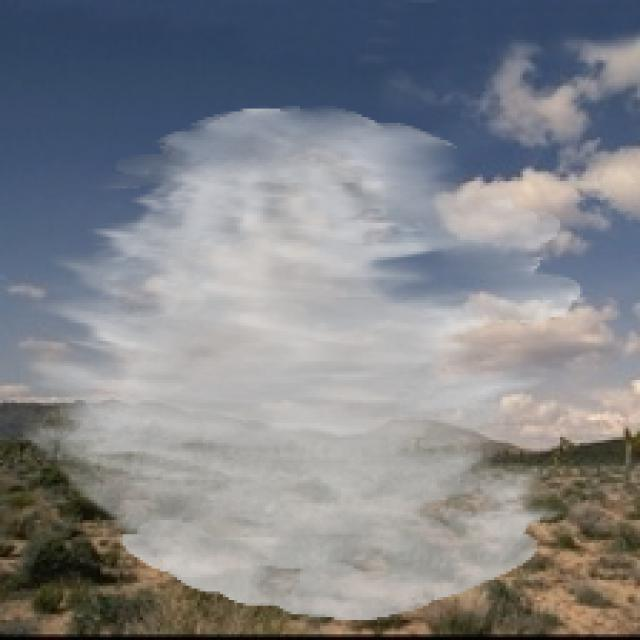Smoke: (17, 105, 583, 620)
